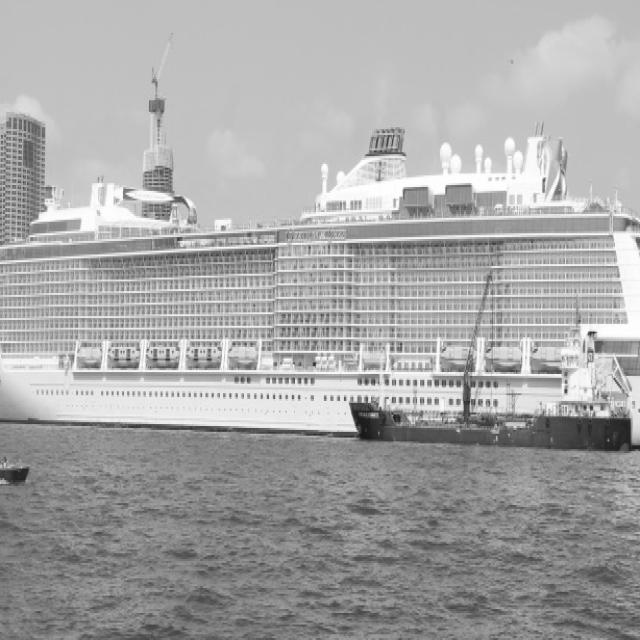cruises: (1, 124, 640, 462)
